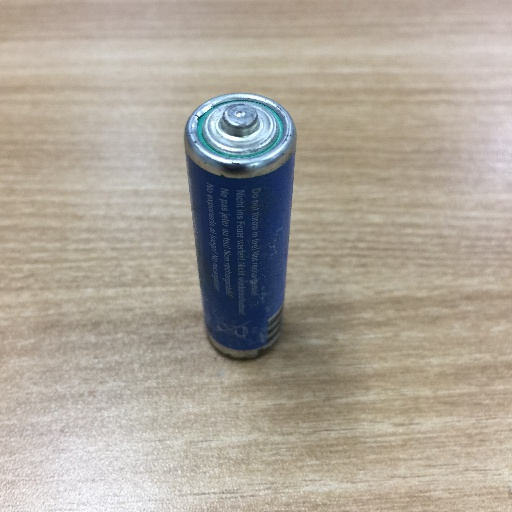Battery_0: (178, 86, 313, 364)
